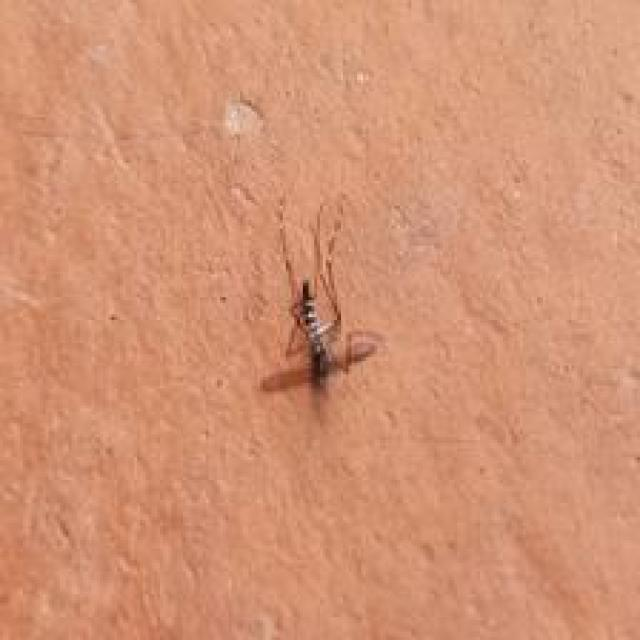Aedes albopictus: (264, 200, 379, 394)
